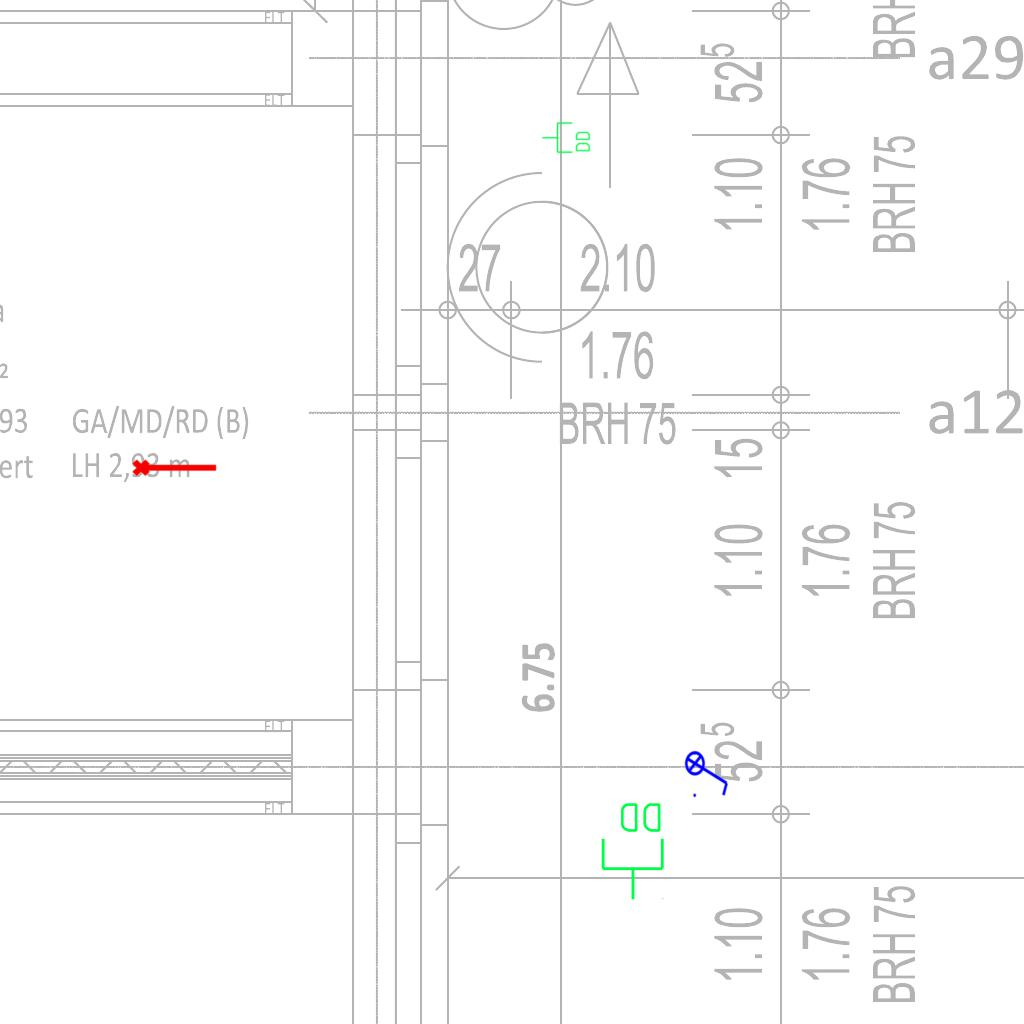ASR_Ansaugoeffnung: (131, 455, 219, 478)
Ausschalter_beleuchtet: (684, 744, 732, 800)
Datenanschluss_zweifach: (599, 799, 668, 902), (541, 121, 592, 155)
